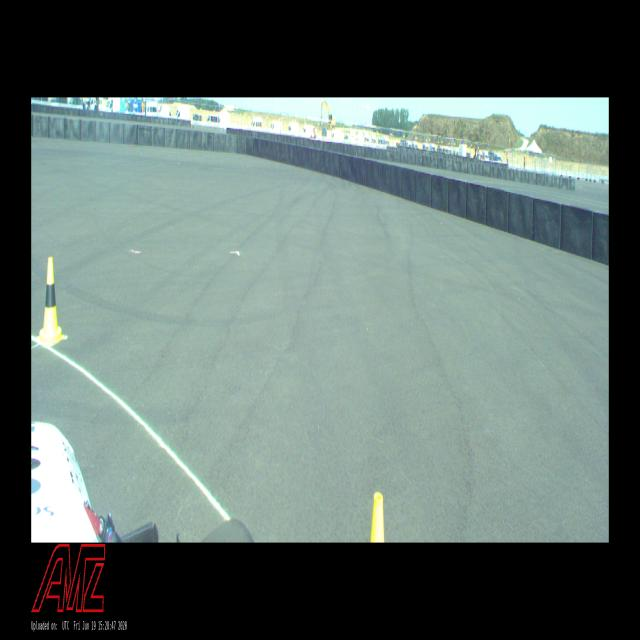yellow_cone: (38, 257, 64, 346), (370, 492, 384, 542)
